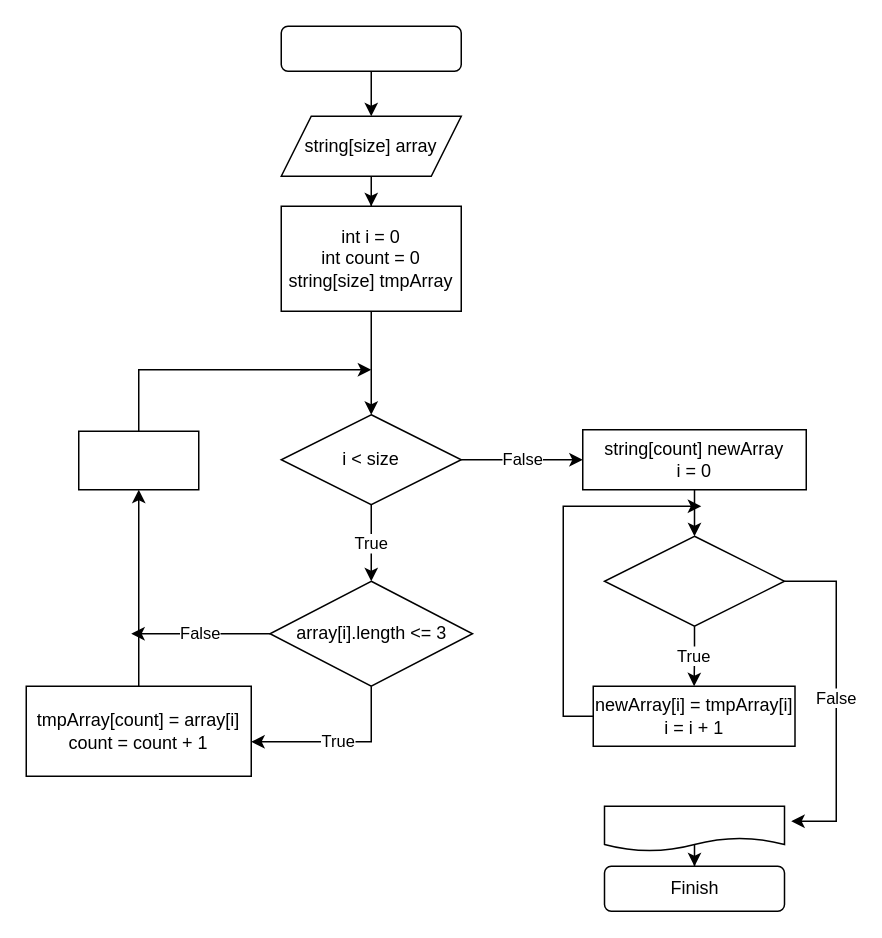
Some shapes in this 882 by 938 pixel diagram are drawn without their labels. The box of each missing label's shape, as (x1, y1, x2, y2) in pixels:
i < count: (603, 535, 784, 626)
i = i + 1: (77, 430, 199, 490)
newArray: (603, 805, 784, 851)
Start: (280, 25, 461, 71)
